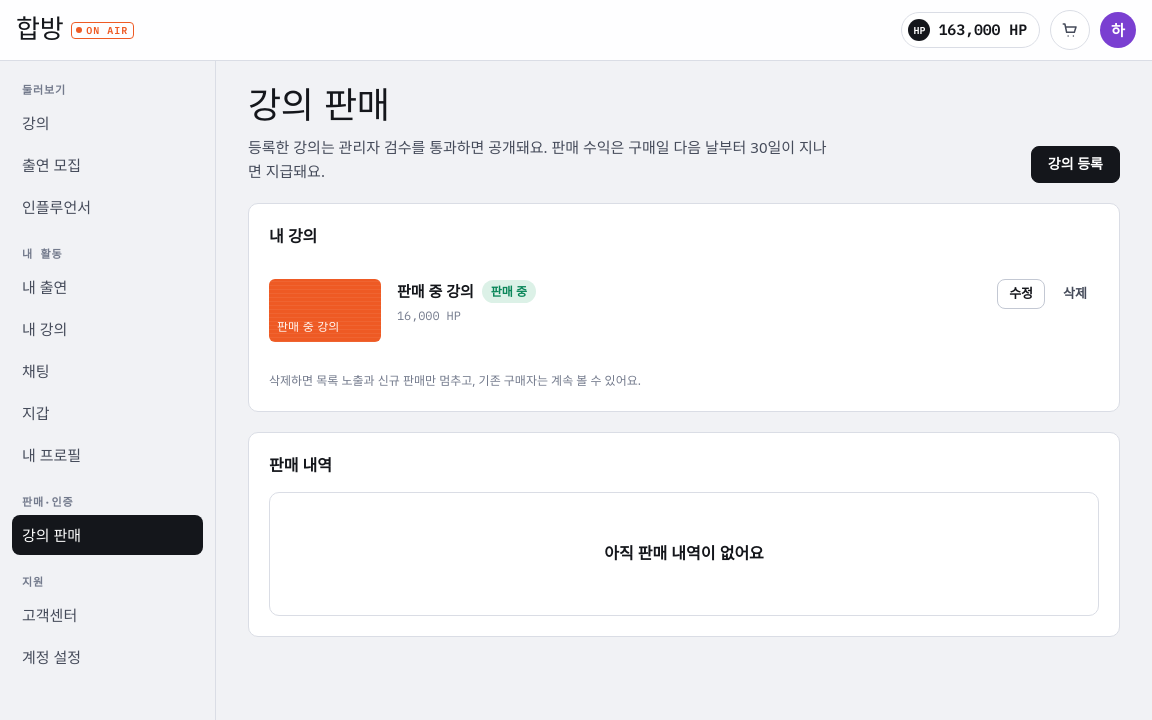
Test case: 강의 판매 화면 › 삭제를 확인하면 DELETE를 보내고 내 강의를 다시 불러온다
This screenshot has width=1152, height=720.
Click the button "삭제".
click(1075, 294)  # box [1051,279,1099,309]
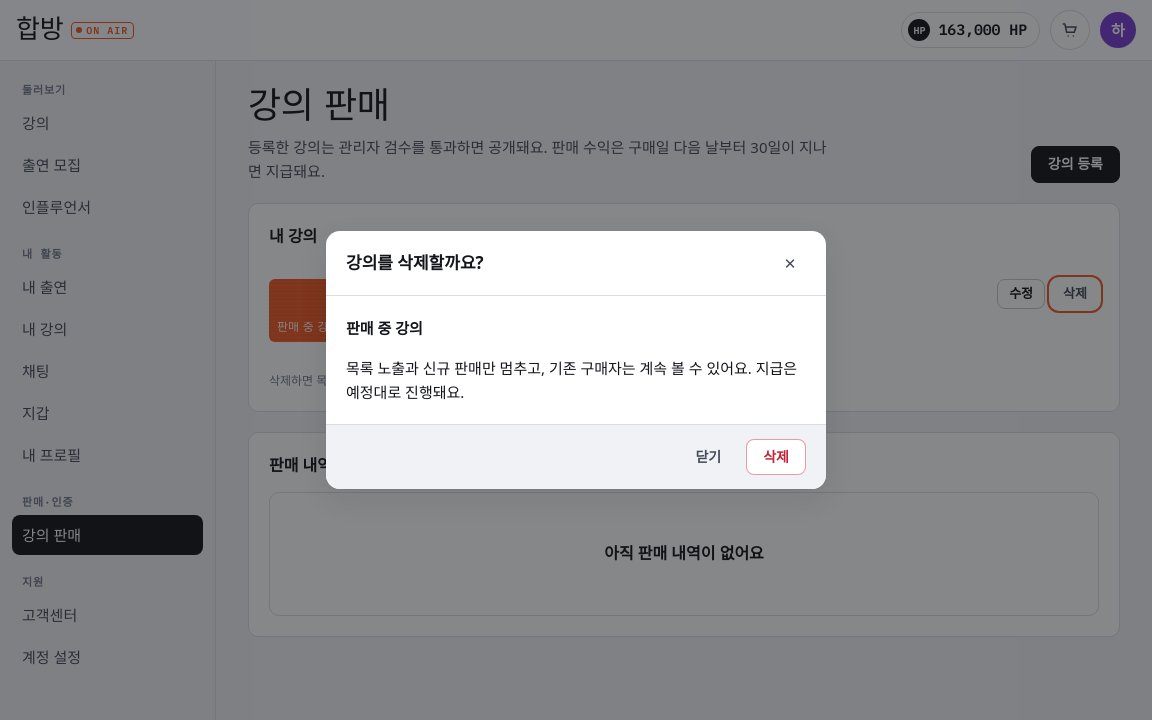
Expected: the text "판매 중 강의" is shown, [346,318,423,338]
Expected: the text "목록 노출과 신규 판매만 멈추고, 기존 구매자는 계속 볼 수 있어요. 지급은 예정대로 진행돼요." is shown, [346,356,806,404]
Click the button "삭제".
click(776, 457)  # box [746,439,806,475]
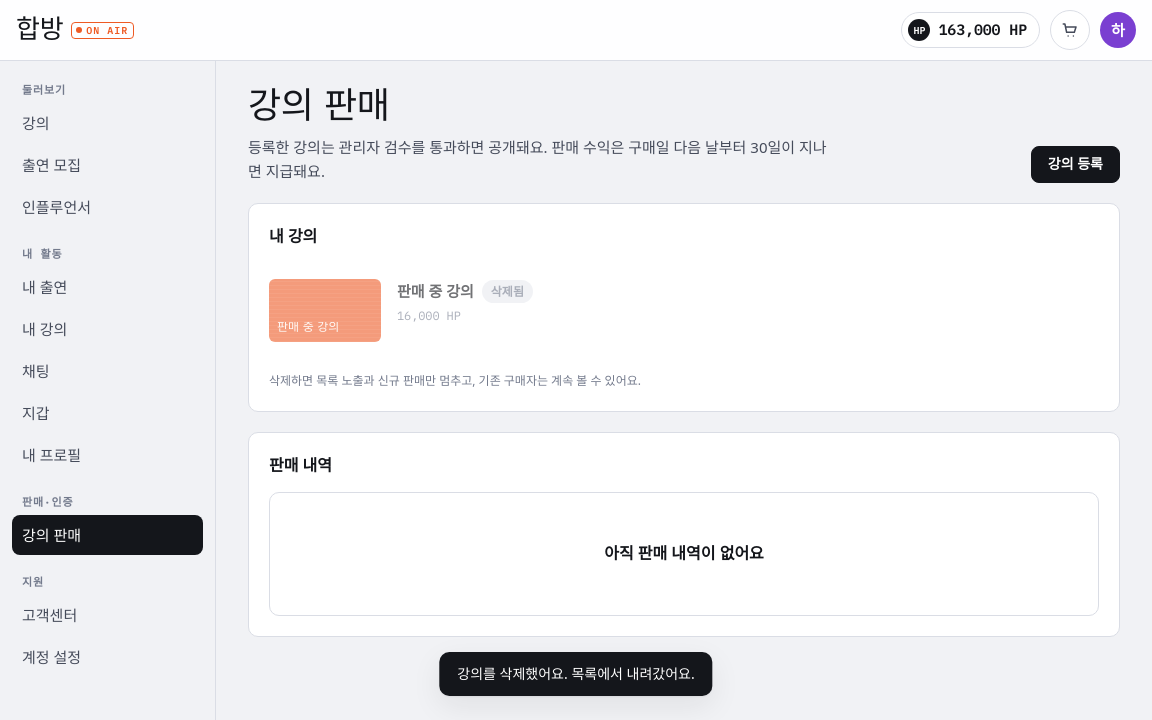
Expected: the text "강의를 삭제했어요. 목록에서 내려갔어요." is shown, [439,652,713,696]
Expected: the dialog is gone
Expected: the text "삭제됨" is shown, [482,280,533,303]
